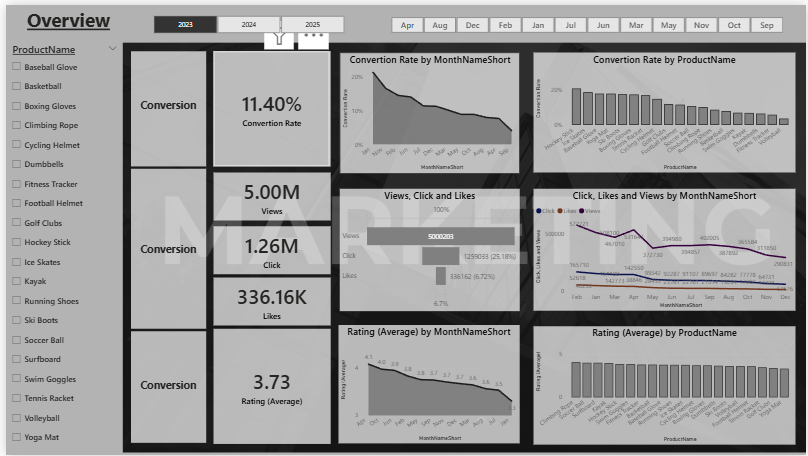

The page's visual inventory and layout, read from the dashboard file:
{"tool":"powerbi","page":{"name":"overview","canvas":[1600,900],"ordinal":0},"visuals":[{"type":"slicer","fields":{"Values":["products.ProductName"]},"box":[0,68.8,233.5,831.2],"z":0},{"type":"shape","box":[0,0,1600,75],"z":1000},{"type":"textbox","box":[0,0,250,75],"z":2000},{"type":"textbox","box":[250,328,150,320],"z":3000},{"type":"textbox","box":[250,91.3,150,230],"z":4000},{"type":"textbox","box":[250,652.7,150,223.5],"z":5000},{"type":"card","fields":{"Values":["Calculation.Convertion Rate"]},"box":[414,92,234,230],"z":6000},{"type":"card","fields":{"Values":["Calculation.Rating (Average)"]},"box":[416,648,234,230],"z":7000},{"type":"card","fields":{"Values":["Calculation.Views"]},"box":[416,336,234,96],"z":8000},{"type":"card","fields":{"Values":["Calculation.Click"]},"box":[416,442,234,96],"z":9000},{"type":"card","fields":{"Values":["Calculation.Likes"]},"box":[416,546,234,96],"z":10000},{"type":"slicer","fields":{"Values":["Calendar.Year"]},"box":[270,14,430,48],"z":11000},{"type":"slicer","fields":{"Values":["Calendar.MonthNameShort"]},"box":[745,17.5,832.5,42.5],"z":12000},{"type":"lineChart","fields":{"Y":["Calculation.Convertion Rate"],"Category":["Calendar.MonthNameShort"]},"box":[667,94,360,242],"z":13000},{"type":"columnChart","fields":{"Category":["products.ProductName"],"Y":["Calculation.Convertion Rate"]},"box":[1054.3,95.7,524.3,240],"z":14000},{"type":"lineChart","fields":{"Y":["Calculation.Click","Calculation.Likes","Calculation.Views"],"Category":["Calendar.MonthNameShort"]},"box":[1054.3,367.1,524.3,244.3],"z":15000},{"type":"lineChart","fields":{"Category":["Calendar.MonthNameShort"],"Y":["Calculation.Rating (Average)"]},"box":[666,641,362,237],"z":16000},{"type":"columnChart","fields":{"Y":["Calculation.Rating (Average)"],"Category":["products.ProductName"]},"box":[1054.3,641.4,524.3,237.1],"z":17000},{"type":"funnel","fields":{"Y":["Calculation.Views","Calculation.Click","Calculation.Likes"]},"box":[667,368,360,245],"z":18000}]}

Visuals, with their boxes in screenshot pixels (x1, y1, x2, y2), scaled from the page's 1600x900 canvas onto the 808x456 screenshot:
slicer - products.ProductName: 0,35,118,455
shape: 0,0,807,38
textbox: 0,0,126,38
textbox: 126,166,202,328
textbox: 126,46,202,163
textbox: 126,331,202,444
card - Calculation.Convertion Rate: 209,47,327,163
card - Calculation.Rating (Average): 210,328,328,445
card - Calculation.Views: 210,170,328,219
card - Calculation.Click: 210,224,328,273
card - Calculation.Likes: 210,277,328,325
slicer - Calendar.Year: 136,7,354,31
slicer - Calendar.MonthNameShort: 376,9,797,30
lineChart - Calculation.Convertion Rate x Calendar.MonthNameShort: 337,48,519,170
columnChart - products.ProductName x Calculation.Convertion Rate: 532,48,797,170
lineChart - Calculation.Click x Calculation.Likes: 532,186,797,310
lineChart - Calendar.MonthNameShort x Calculation.Rating (Average): 336,325,519,445
columnChart - Calculation.Rating (Average) x products.ProductName: 532,325,797,445
funnel - Calculation.Views x Calculation.Click: 337,186,519,311
